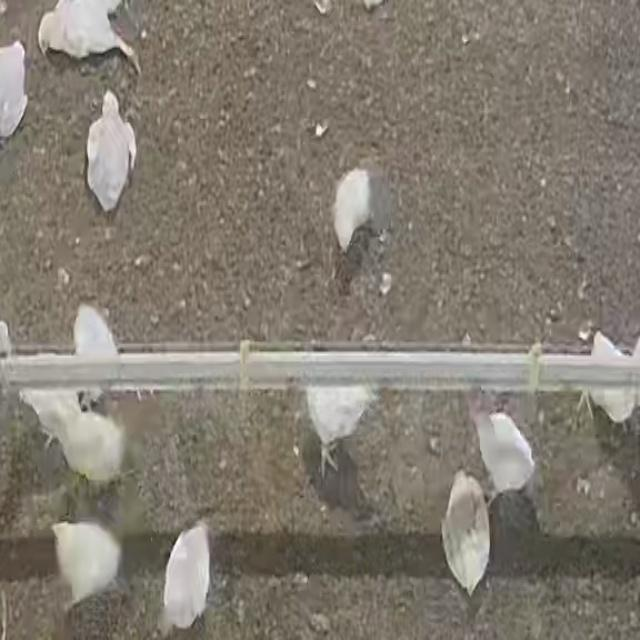chicken: (44, 517, 123, 609), (55, 402, 128, 484), (471, 403, 535, 496), (159, 518, 210, 631), (445, 468, 489, 594), (40, 0, 128, 60), (86, 106, 134, 212), (584, 332, 636, 426), (308, 382, 372, 448), (332, 166, 373, 246), (72, 304, 117, 364)
